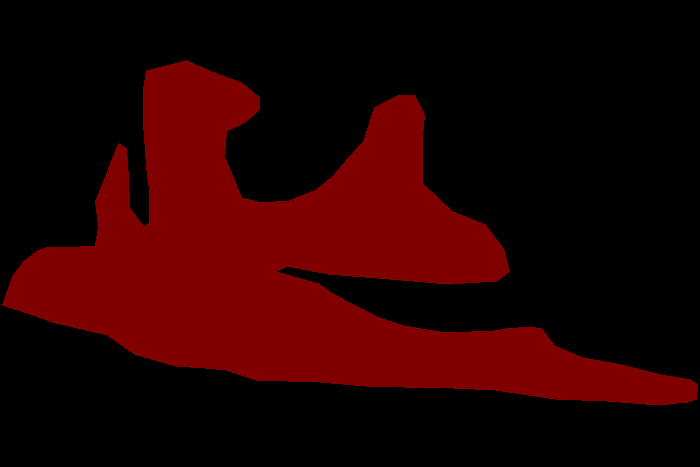fire: (2, 60, 697, 405)
